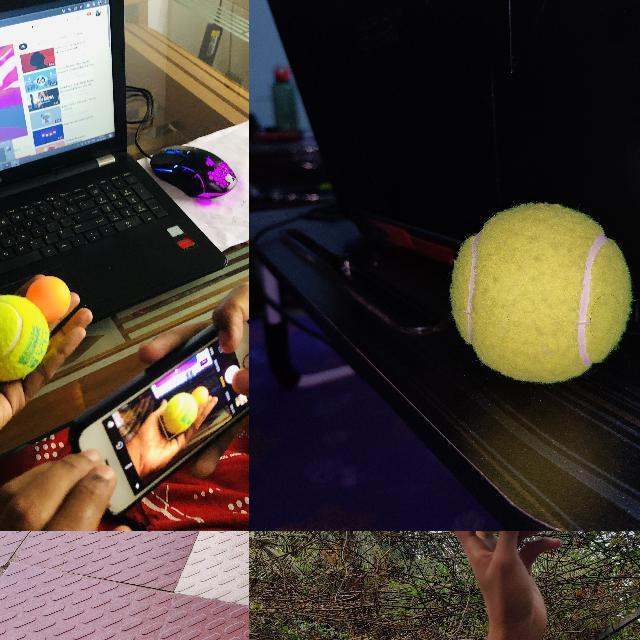tennis-ball: (448, 204, 632, 382), (0, 295, 49, 381)
